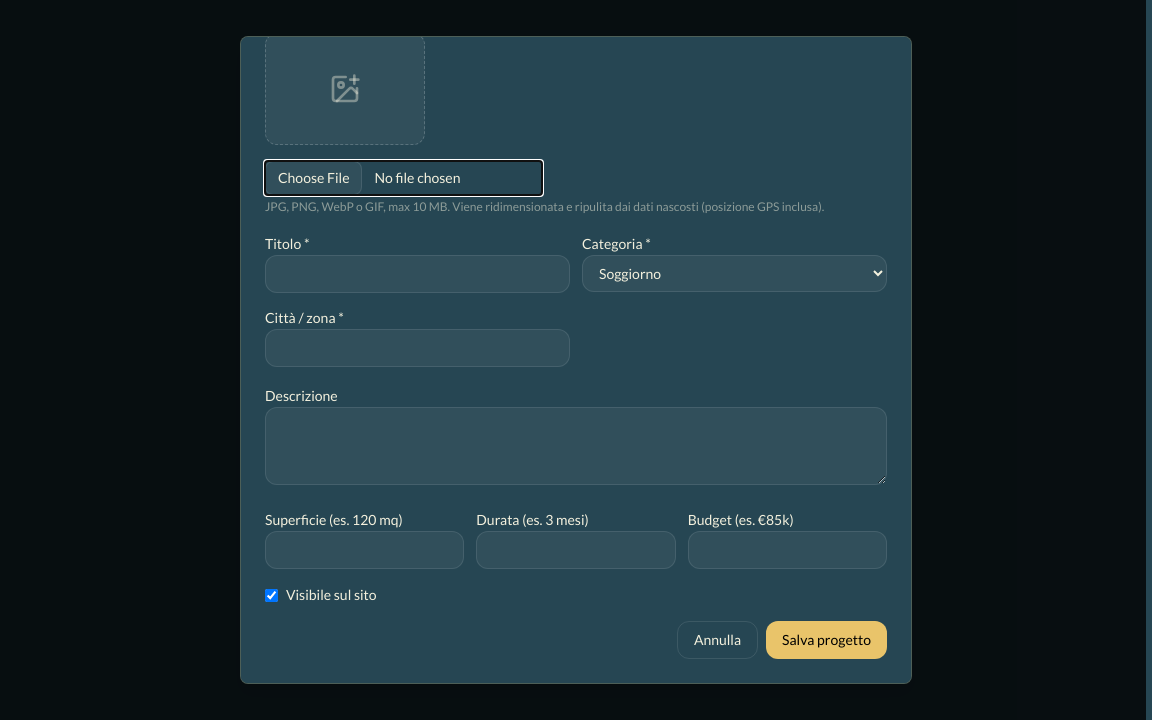
Test case: PortfolioForm › creating needs a title, a place and an image, and says which is missing
(page scrolled)
Click the button with test id "portfolio-save" at (826, 640), box [766,621,887,659]
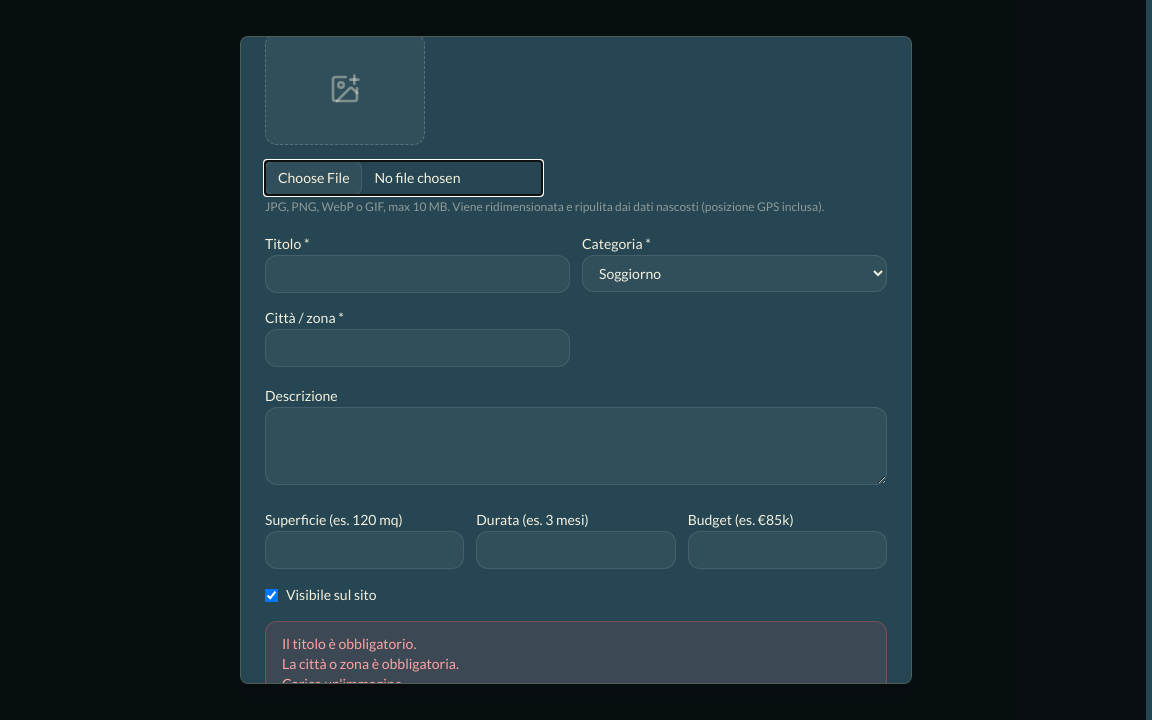
Result: the message with test id "portfolio-problems" shows "titolo" at [282,635,416,652]
Result: the message with test id "portfolio-problems" shows "città" at [282,655,459,672]
